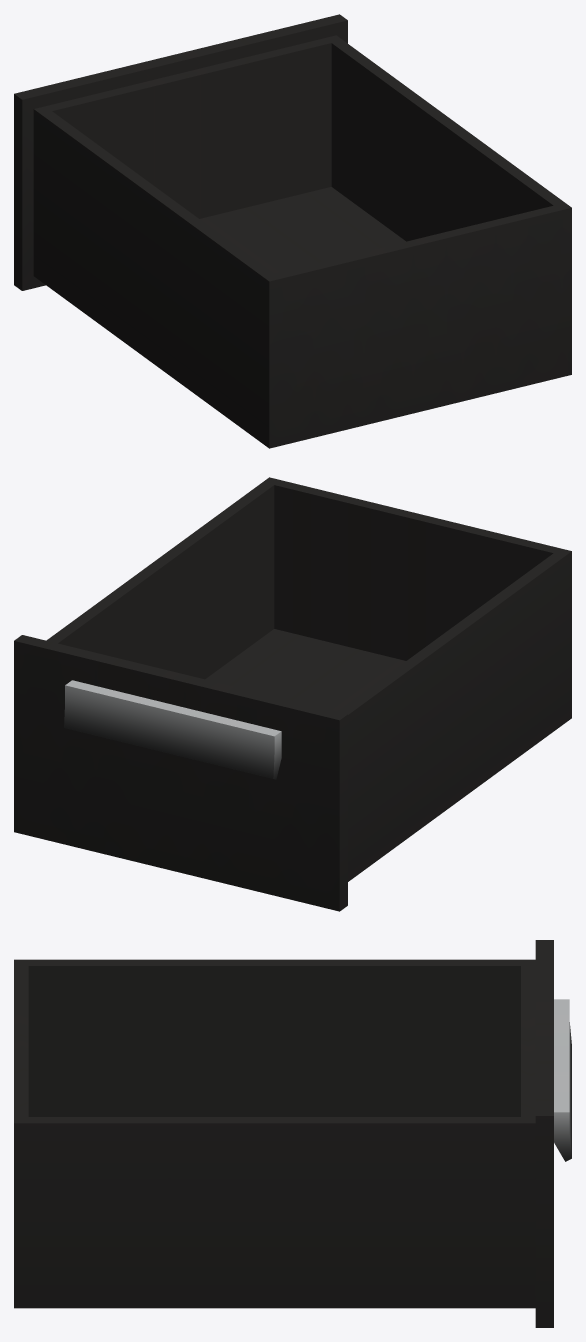
The model's file is Drawer_OfficeDesk4_Bottom.fbx.
3 renders of one model, top to bottom at view 1: azimuth 30°, elevation 25°; view 2: azimuth 150°, elevation 25°; view 3: azimuth 270°, elevation 25°, orthographic. The views are drawn at different scales.
Parts seen in each view (by area): view 1: Drawer_OfficeDesk4_Bottom; view 2: Drawer_OfficeDesk4_Bottom; view 3: Drawer_OfficeDesk4_Bottom.
Part boxes in pixels (box(x1,y1,x2,y2)): Drawer_OfficeDesk4_Bottom: box(14, 14, 571, 448); Drawer_OfficeDesk4_Bottom: box(14, 477, 571, 911); Drawer_OfficeDesk4_Bottom: box(14, 940, 571, 1327).
Bounding box in the file's own units: 44.19 × 24.8 × 59.19.
